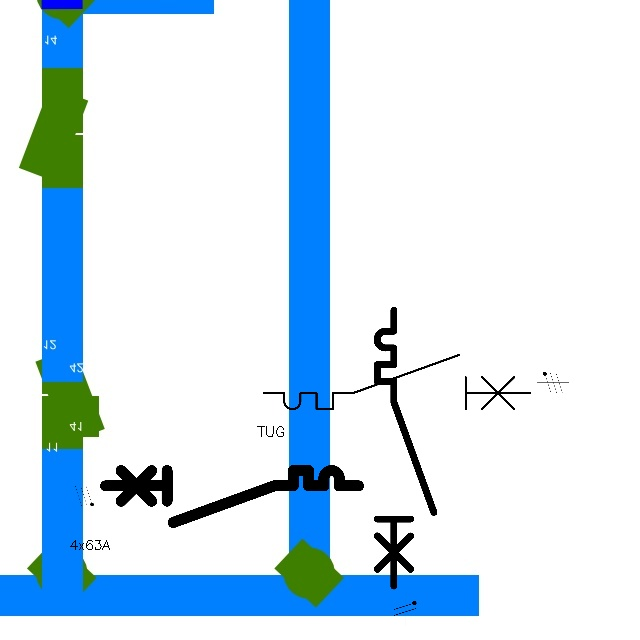interruptor_termomagnetico: (370, 303, 441, 593), (257, 348, 537, 416), (99, 464, 365, 529)
